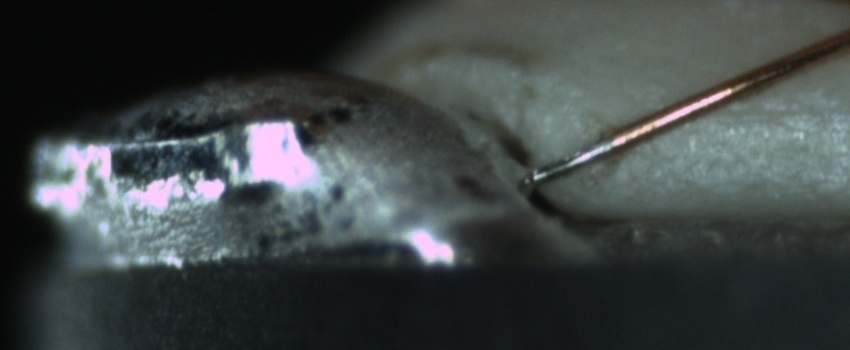DL: (702, 81, 848, 145)
TS: (526, 136, 614, 188)
